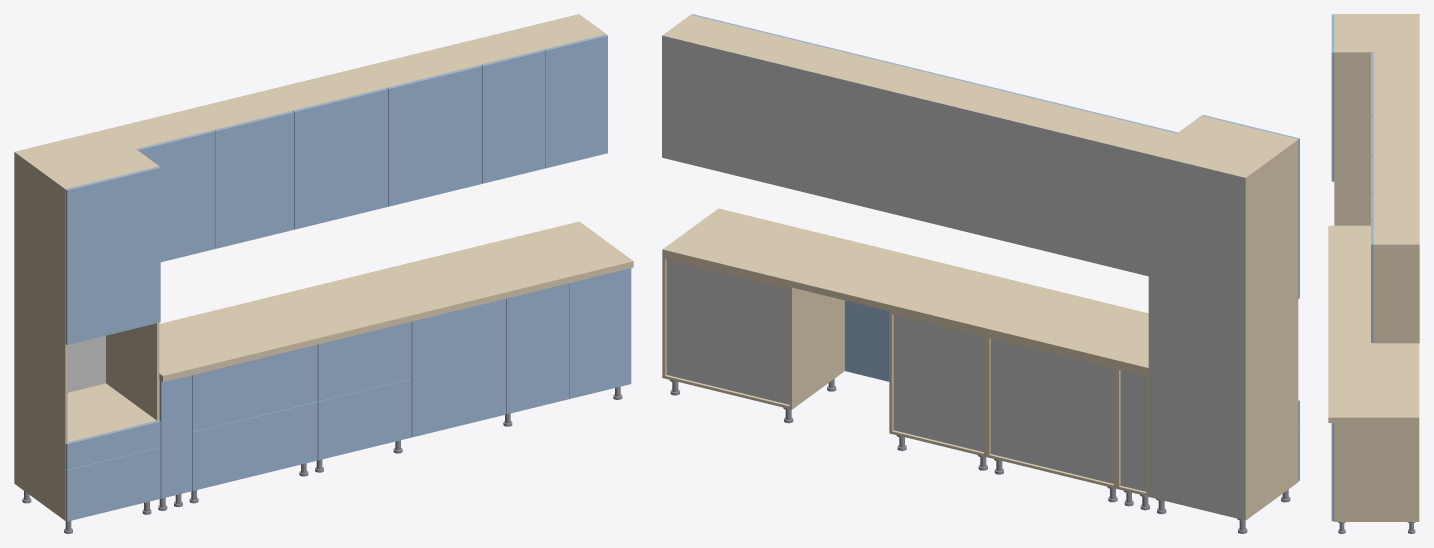
Rendered from kitchen.obj.
3 renders of one model, left to right at view 1: azimuth 30°, elevation 25°; view 2: azimuth 150°, elevation 25°; view 3: azimuth 270°, elevation 25°, orthographic. The views are drawn at different scales.
Visible parts, largest first — view 1: 105 Countertop, 1 Left side, 71 Дверь, 56 Дверь, 55 Дверь, 102 Фасад посудомойки, 54 Дверь, 57 Дверь, 58 Дверь, 78 Фасад ящика, 103 Дверь, 104 Дверь (+16 smaller); view 2: 7 Back panel, 105 Countertop, 34 Back panel, 1 Left side, 52 Back panel, 28 Back panel, 17 Back panel, 40 Back panel, 46 Back panel, 22 Back panel, 23 Left side, 4 Top panel (+7 smaller); view 3: 105 Countertop, 24 Right side, 2 Right side, 48 Right side, 4 Top panel, 32 Top panel, 50 Top panel, 38 Top panel, 44 Top panel, 71 Дверь, 104 Дверь, 58 Дверь (+2 smaller).
Boxes of the visible parts, <box> form: 105 Countertop: <box>159,221,633,382</box>; 1 Left side: <box>14,151,67,520</box>; 71 Дверь: <box>65,166,160,344</box>; 56 Дверь: <box>387,65,482,206</box>; 55 Дверь: <box>293,88,388,229</box>; 102 Фасад посудомойки: <box>411,298,505,437</box>; 54 Дверь: <box>214,111,293,248</box>; 57 Дверь: <box>481,50,545,183</box>; 58 Дверь: <box>544,34,607,168</box>; 78 Фасад ящика: <box>192,402,317,490</box>; 103 Дверь: <box>506,283,568,414</box>; 104 Дверь: <box>569,268,631,398</box>; 7 Back panel: <box>1148,154,1245,520</box>; 105 Countertop: <box>662,208,1148,374</box>; 34 Back panel: <box>986,114,1148,276</box>; 1 Left side: <box>1244,139,1298,519</box>; 52 Back panel: <box>662,35,791,189</box>; 28 Back panel: <box>666,260,789,404</box>; 17 Back panel: <box>990,339,1113,483</box>; 40 Back panel: <box>889,91,986,236</box>; 46 Back panel: <box>792,67,888,212</box>; 22 Back panel: <box>893,315,983,452</box>; 23 Left side: <box>789,287,844,409</box>; 4 Top panel: <box>1152,116,1295,176</box>; 105 Countertop: <box>1328,225,1419,422</box>; 24 Right side: <box>1334,423,1419,521</box>; 2 Right side: <box>1334,51,1419,225</box>; 48 Right side: <box>1373,243,1419,343</box>; 4 Top panel: <box>1334,15,1419,51</box>; 32 Top panel: <box>1373,53,1419,115</box>; 50 Top panel: <box>1373,194,1419,243</box>; 38 Top panel: <box>1373,117,1419,153</box>; 44 Top panel: <box>1373,156,1419,192</box>; 71 Дверь: <box>1331,14,1334,181</box>; 104 Дверь: <box>1331,423,1334,521</box>; 58 Дверь: <box>1371,219,1373,342</box>.
Size of the model in its own units: 3600 by 2120 by 603.
